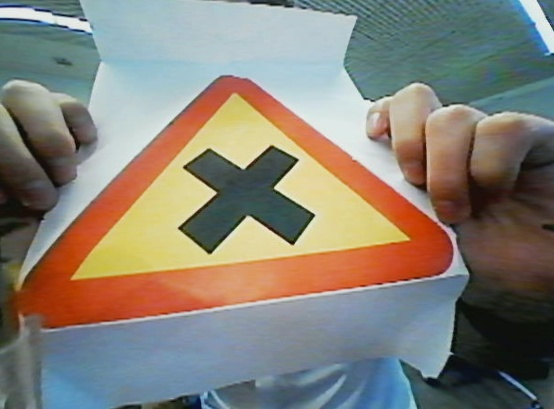junction: (22, 63, 464, 337)
